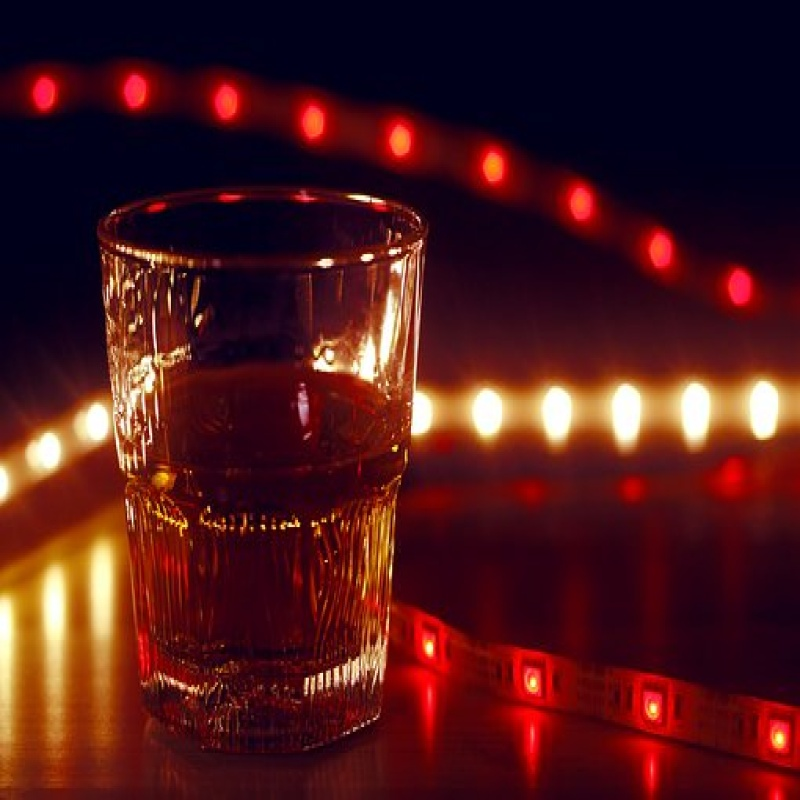whiskey: (114, 182, 431, 744)
